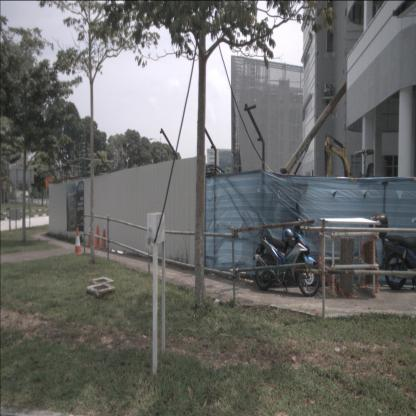movable_object-trafficcone: (74, 228, 82, 255), (85, 224, 93, 246), (93, 225, 100, 248), (101, 226, 107, 250)
vehicle-motorcycle: (252, 216, 321, 298), (371, 213, 416, 292)
